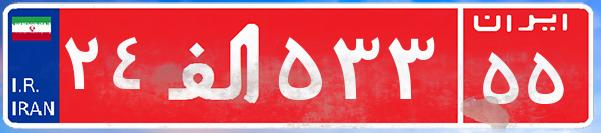2: (57, 26, 110, 107)
3: (385, 28, 445, 110), (330, 28, 385, 110)
4: (110, 28, 158, 105)
5: (273, 28, 330, 110), (475, 38, 525, 113), (525, 38, 570, 115)
الف: (158, 15, 273, 115)
